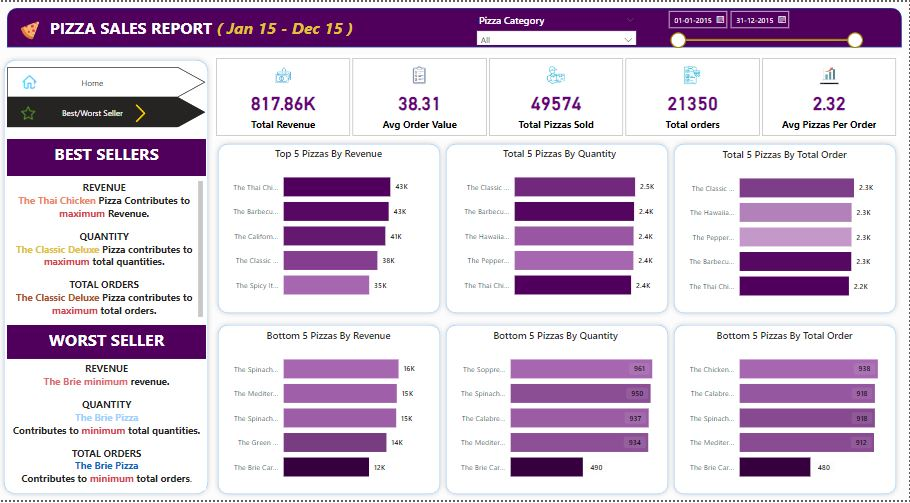

Layout of this report page (visuals, bound fields, positions):
{"tool":"powerbi","page":{"name":"Best/Worst Seller","canvas":[1500,820],"ordinal":1},"visuals":[{"type":"cardVisual","fields":{"Data":["pizza_sales.Total Revenue","pizza_sales.Avg Order Value","pizza_sales.Total Pizzas Sold","pizza_sales.Total orders","pizza_sales.Avg Pizzas Per Order"]},"box":[352.7,87.9,1134.7,138.1],"z":0},{"type":"shape","box":[12.5,10,1475,65],"z":1000},{"type":"textbox","box":[72.5,18.1,522.5,49.5],"z":2000},{"type":"image","box":[29.7,26.4,42.9,41.2],"z":3000},{"type":"shape","box":[0,87.4,352.7,731.9],"z":4000},{"type":"textbox","box":[13.2,225.8,328,61],"z":5000},{"type":"textbox","box":[13.2,290.1,328,242.3],"z":6000},{"type":"textbox","box":[13.2,532.4,328,56],"z":7000},{"type":"textbox","box":[13.2,588.5,328,215.9],"z":8000},{"type":"slicer","fields":{"Values":["pizza_sales.pizza_category"]},"box":[778,14.8,281.9,56],"z":9000},{"type":"slicer","fields":{"Values":["pizza_sales.order_date"]},"box":[1091.2,4.9,341.2,82.4],"z":10000},{"type":"shape","box":[352.7,225.8,382.4,295.1],"z":11000},{"type":"shape","box":[352.7,524.2,382.4,295.1],"z":12000},{"type":"shape","box":[728.6,225.8,382.4,295.1],"z":13000},{"type":"shape","box":[728.6,524.2,382.4,295.1],"z":14000},{"type":"shape","box":[1104.4,225.8,382.4,295.1],"z":15000},{"type":"shape","box":[1104.4,524.2,382.4,295.1],"z":16000},{"type":"barChart","title":"Top 5 Pizzas By Revenue","fields":{"Category":["pizza_sales.pizza_name"],"Y":["pizza_sales.Total Revenue"]},"box":[369.2,239,347.8,265.4],"z":17000},{"type":"barChart","title":"Bottom 5 Pizzas By Revenue","fields":{"Category":["pizza_sales.pizza_name"],"Y":["pizza_sales.Total Revenue"]},"box":[369.2,539,347.8,265.4],"z":18000},{"type":"barChart","title":"Total 5 Pizzas By Quantity","fields":{"Category":["pizza_sales.pizza_name"],"Y":["pizza_sales.Total Pizzas Sold"]},"box":[750,239,347.8,265.4],"z":19000},{"type":"barChart","title":"Bottom 5 Pizzas By Quantity","fields":{"Category":["pizza_sales.pizza_name"],"Y":["pizza_sales.Total Pizzas Sold"]},"box":[743.4,539,347.8,265.4],"z":20000},{"type":"barChart","title":"Total 5 Pizzas By Total Order","fields":{"Category":["pizza_sales.pizza_name"],"Y":["pizza_sales.Total orders"]},"box":[1120.9,240.7,347.8,265.4],"z":21000},{"type":"barChart","title":"Bottom 5 Pizzas By Total Order","fields":{"Category":["pizza_sales.pizza_name"],"Y":["pizza_sales.Total orders"]},"box":[1120.9,539,347.8,265.4],"z":22000},{"type":"pageNavigator","box":[12.9,107.2,327.5,50],"z":23000},{"type":"pageNavigator","box":[12.9,157.3,327.5,50],"z":24000},{"type":"image","box":[209.3,163.2,47.8,39.6],"z":25000},{"type":"image","box":[30,115.8,41.5,32.9],"z":26000},{"type":"image","box":[30,165.9,37.2,32.9],"z":27000}]}

Visuals, with their boxes in screenshot pixels (x1, y1, x2, y2), scaled from the page's 1500x820 canvas onto the 910x503 screenshot:
cardVisual - pizza_sales.Total Revenue x pizza_sales.Avg Order Value: (214,54,902,139)
shape: (8,6,902,46)
textbox: (44,11,361,41)
image: (18,16,44,41)
shape: (0,54,214,502)
textbox: (8,139,207,176)
textbox: (8,178,207,327)
textbox: (8,327,207,361)
textbox: (8,361,207,493)
slicer - pizza_sales.pizza_category: (472,9,643,43)
slicer - pizza_sales.order_date: (662,3,869,54)
shape: (214,139,446,320)
shape: (214,322,446,502)
shape: (442,139,674,320)
shape: (442,322,674,502)
shape: (670,139,902,320)
shape: (670,322,902,502)
"Top 5 Pizzas By Revenue" barChart: (224,147,435,309)
"Bottom 5 Pizzas By Revenue" barChart: (224,331,435,493)
"Total 5 Pizzas By Quantity" barChart: (455,147,666,309)
"Bottom 5 Pizzas By Quantity" barChart: (451,331,662,493)
"Total 5 Pizzas By Total Order" barChart: (680,148,891,310)
"Bottom 5 Pizzas By Total Order" barChart: (680,331,891,493)
pageNavigator: (8,66,207,96)
pageNavigator: (8,96,207,127)
image: (127,100,156,124)
image: (18,71,43,91)
image: (18,102,41,122)
